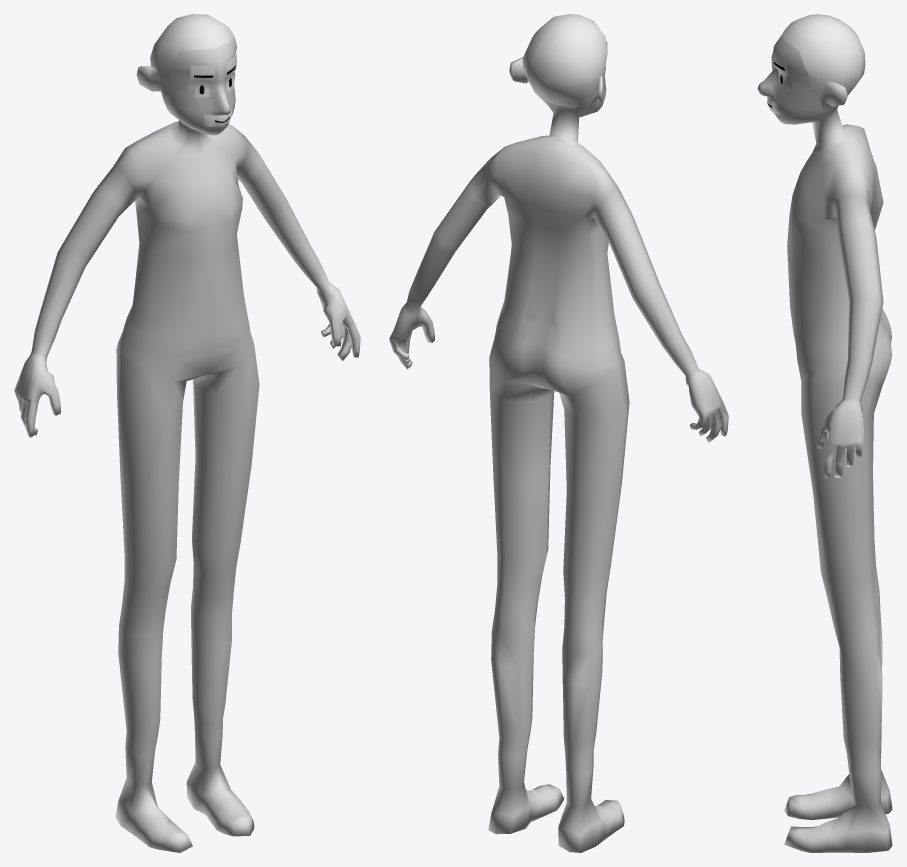
File: testModel 1.fbx
3 views of the same model, side by side, from view 1: azimuth 30°, elevation 25°; view 2: azimuth 150°, elevation 25°; view 3: azimuth 270°, elevation 25° (orthographic). The views are drawn at different scales.
Visible parts, largest first — view 1: Head.008, Hair.004, Eyes.004; view 2: Head.008, Hair.004; view 3: Head.008, Hair.004, Eyes.004.
Boxes of the visible parts, box(x1,y1,x2,y2) form: Head.008: box(14, 38, 360, 852); Hair.004: box(150, 14, 237, 82); Eyes.004: box(190, 54, 236, 97); Head.008: box(389, 57, 728, 852); Hair.004: box(522, 14, 607, 107); Head.008: box(757, 35, 892, 852); Hair.004: box(782, 14, 865, 108); Eyes.004: box(773, 45, 787, 89).
Size of the model in its own units: 183 by 429 by 64.91.
